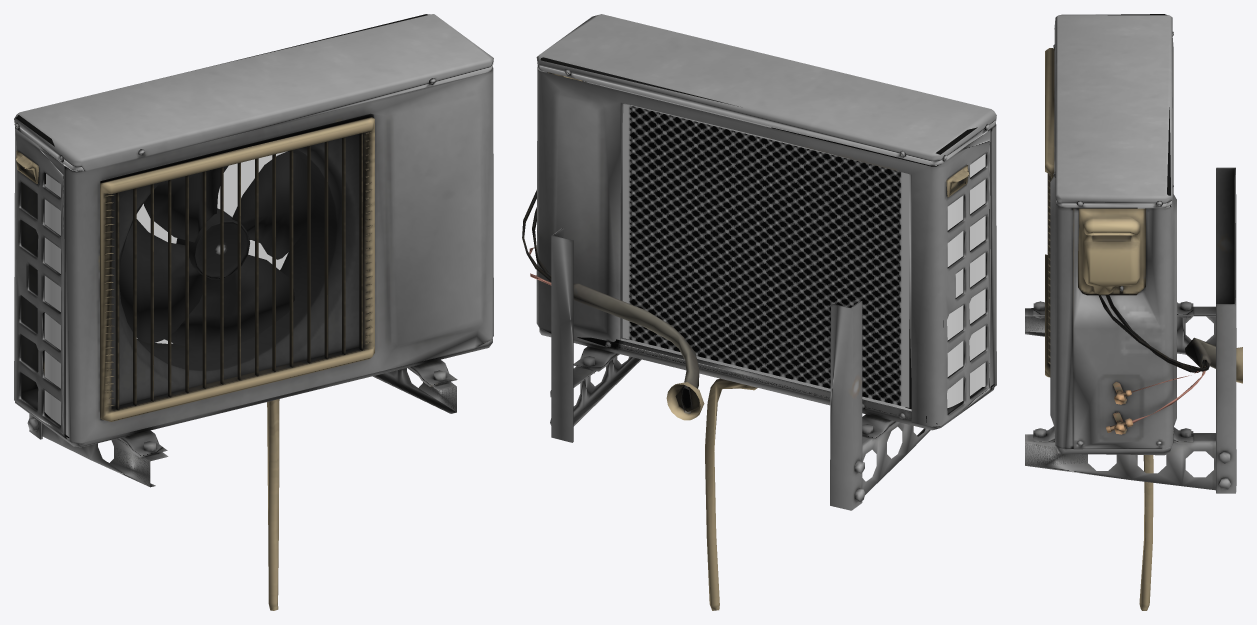
The model's file is exterior_aircon_unit.glb.
3 views of the same model, side by side, from view 1: azimuth 30°, elevation 25°; view 2: azimuth 150°, elevation 25°; view 3: azimuth 270°, elevation 25° (orthographic). The views are drawn at different scales.
Visible parts, largest first — view 1: exterior_aircon_unit; view 2: exterior_aircon_unit; view 3: exterior_aircon_unit.
Boxes of the visible parts, box(x1,y1,x2,y2) form: exterior_aircon_unit: box(14, 14, 493, 610); exterior_aircon_unit: box(522, 14, 996, 610); exterior_aircon_unit: box(1025, 14, 1242, 610).
Bounding box in the file's own units: 0.7965 × 0.9279 × 0.3742.
Materials: 2 (2 with a texture image).
